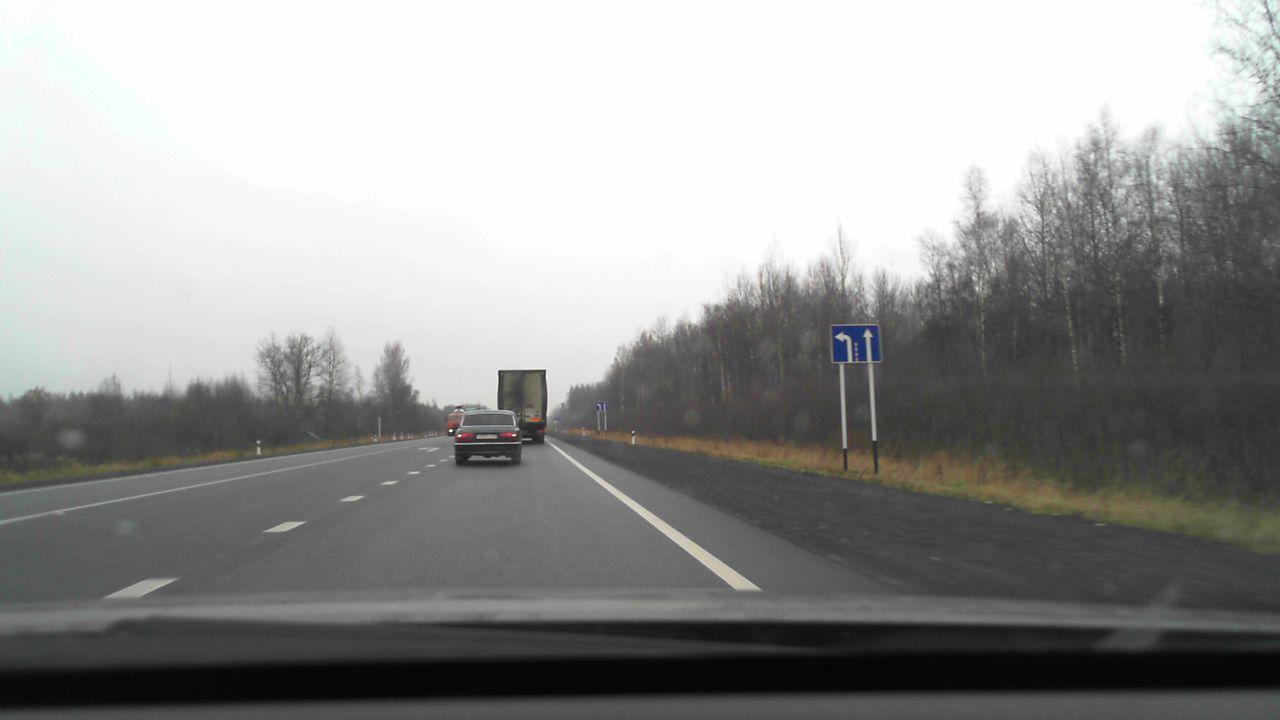5_15_1: (829, 324, 882, 363)
